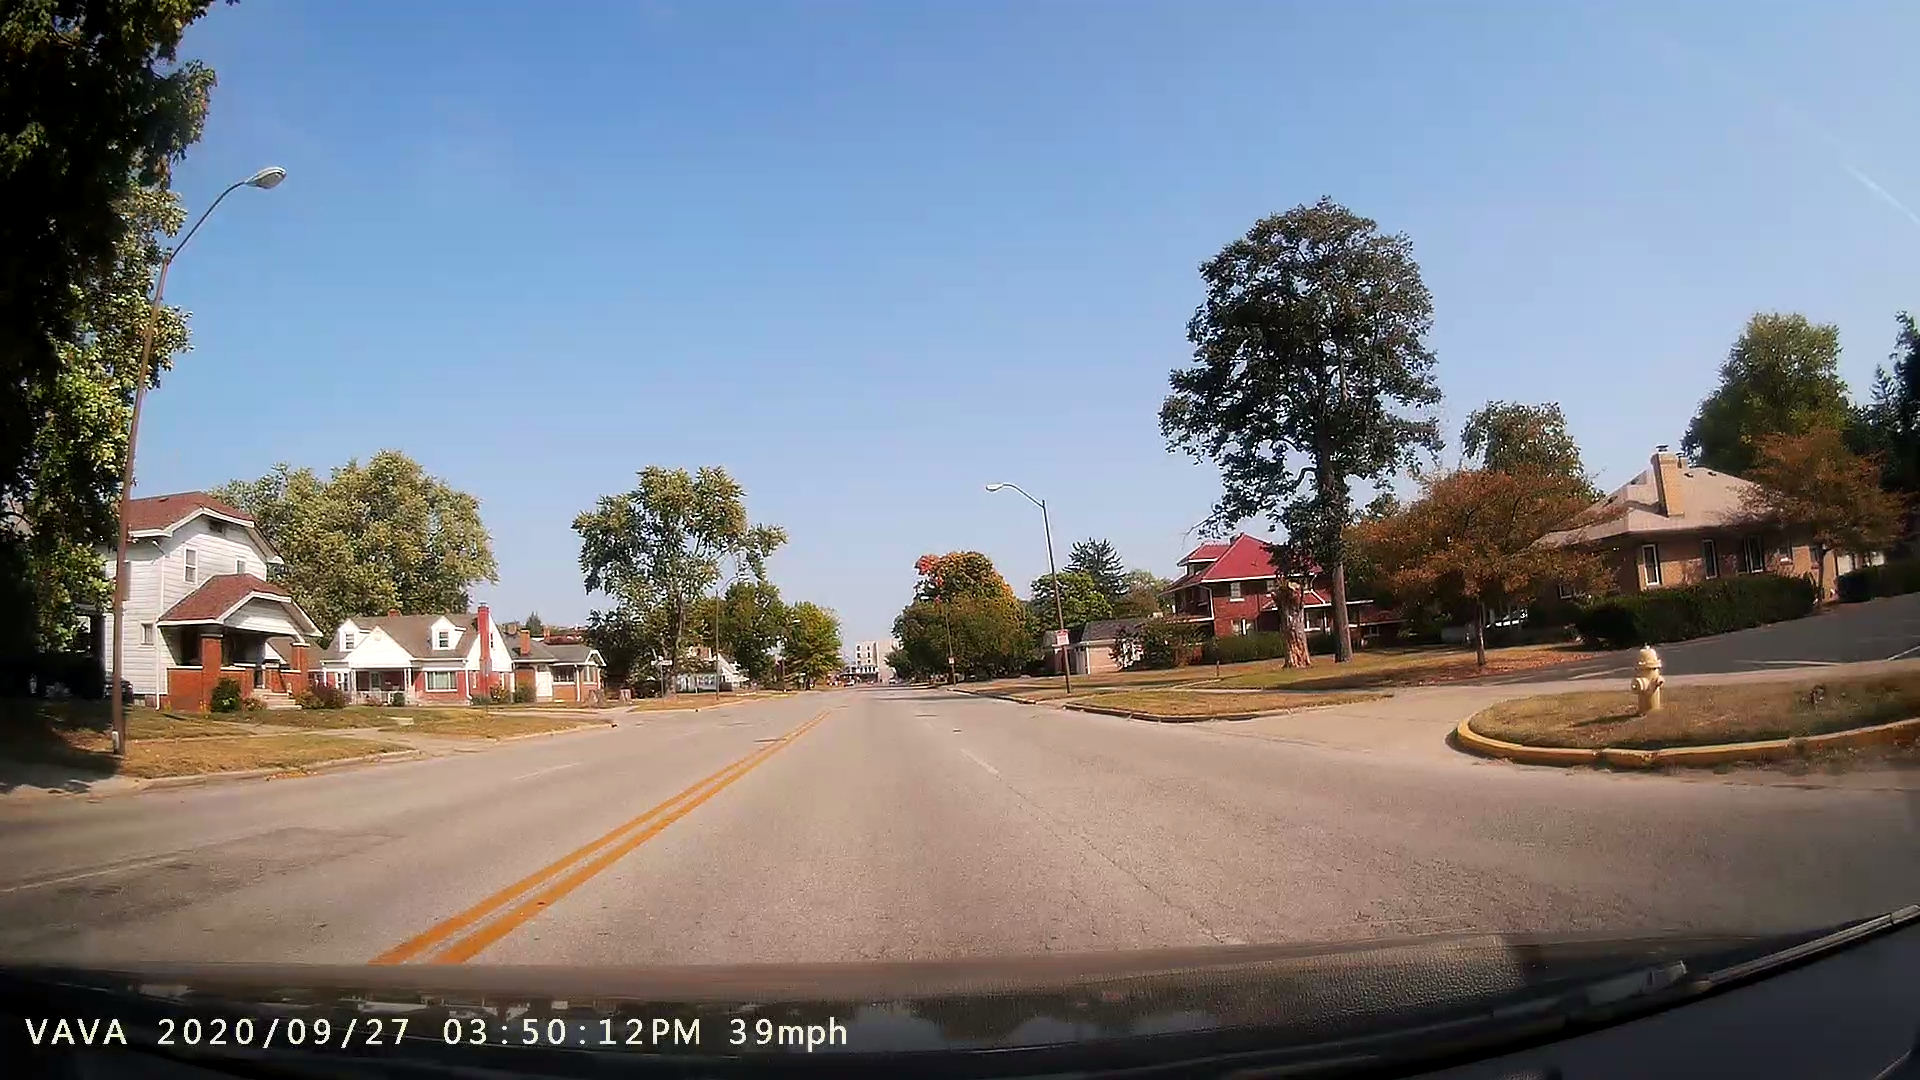fire_hydrant: (1604, 624, 1691, 731)
